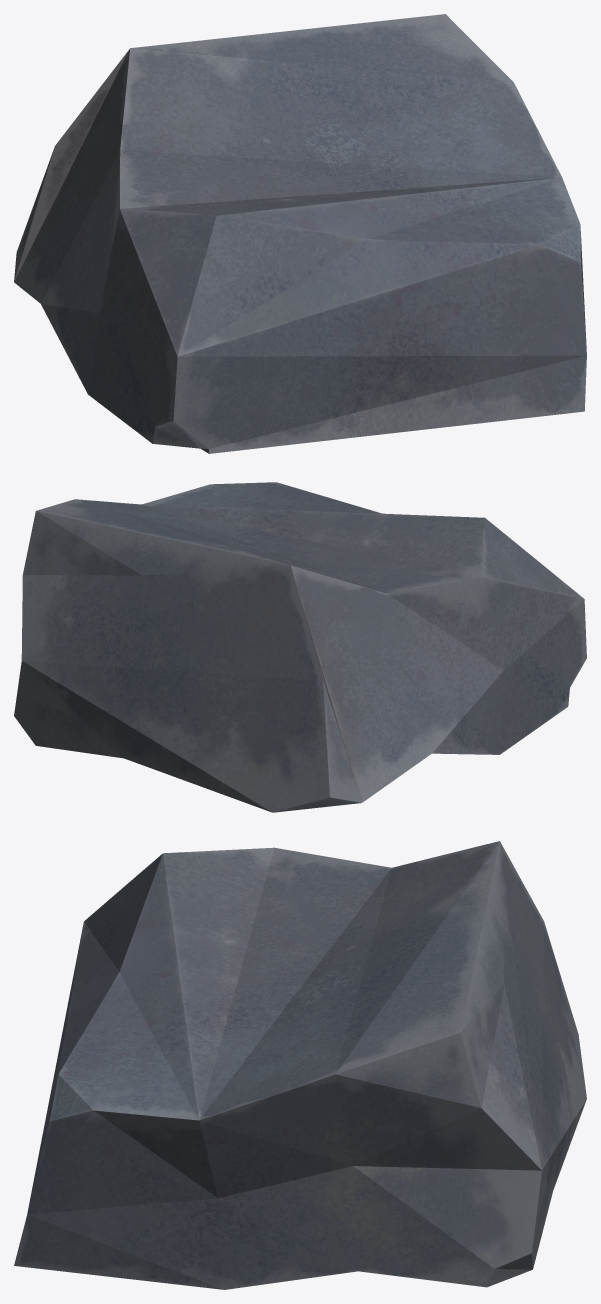
File: rock8.glb
The picture shows the model from 3 angles, top to bottom: view 1: azimuth 30°, elevation 25°; view 2: azimuth 150°, elevation 25°; view 3: azimuth 270°, elevation 25°; orthographic projection. The views are drawn at different scales.
Parts seen in each view (by area): view 1: Object_41; view 2: Object_41; view 3: Object_41.
Boxes of the visible parts, bbox=[...] form: Object_41: bbox=[14, 14, 586, 453]; Object_41: bbox=[14, 482, 586, 812]; Object_41: bbox=[14, 841, 586, 1289].
Bounding box in the file's own units: 5.31 × 3.04 × 5.2.
Materials: 1 (1 with a texture image).
